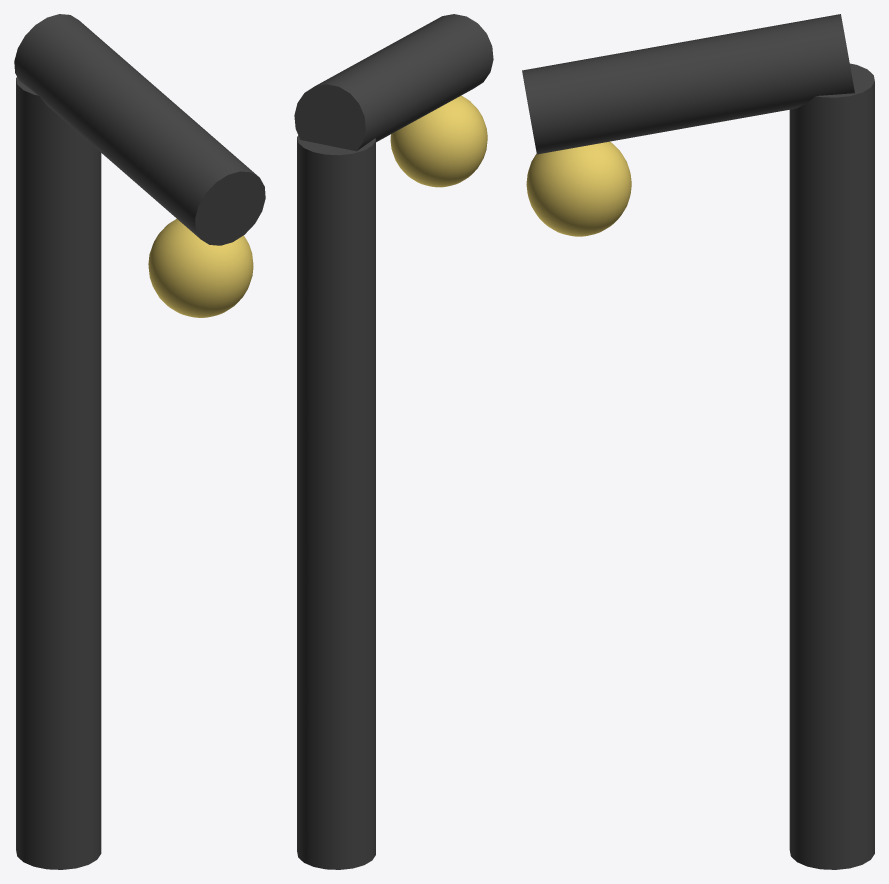
Rendered from streetlight.FBX.
The picture shows the model from 3 angles, left to right: view 1: azimuth 30°, elevation 25°; view 2: azimuth 150°, elevation 25°; view 3: azimuth 270°, elevation 25°; orthographic projection. The views are drawn at different scales.
Parts seen in each view (by area): view 1: Cylinder001, Cylinder002, Sphere001; view 2: Cylinder001, Cylinder002, Sphere001; view 3: Cylinder001, Cylinder002, Sphere001.
Part boxes in pixels (x1=…): Cylinder001: x1=16, y1=77, x2=101, y2=869; Cylinder002: x1=14, y1=14, x2=265, y2=245; Sphere001: x1=148, y1=219, x2=253, y2=317; Cylinder001: x1=297, y1=135, x2=375, y2=869; Cylinder002: x1=294, y1=14, x2=493, y2=151; Sphere001: x1=390, y1=95, x2=487, y2=187; Cylinder001: x1=789, y1=63, x2=874, y2=869; Cylinder002: x1=522, y1=14, x2=854, y2=154; Sphere001: x1=526, y1=141, x2=631, y2=236.
Bounding box in the file's own units: 4.19 × 33.58 × 12.89.
